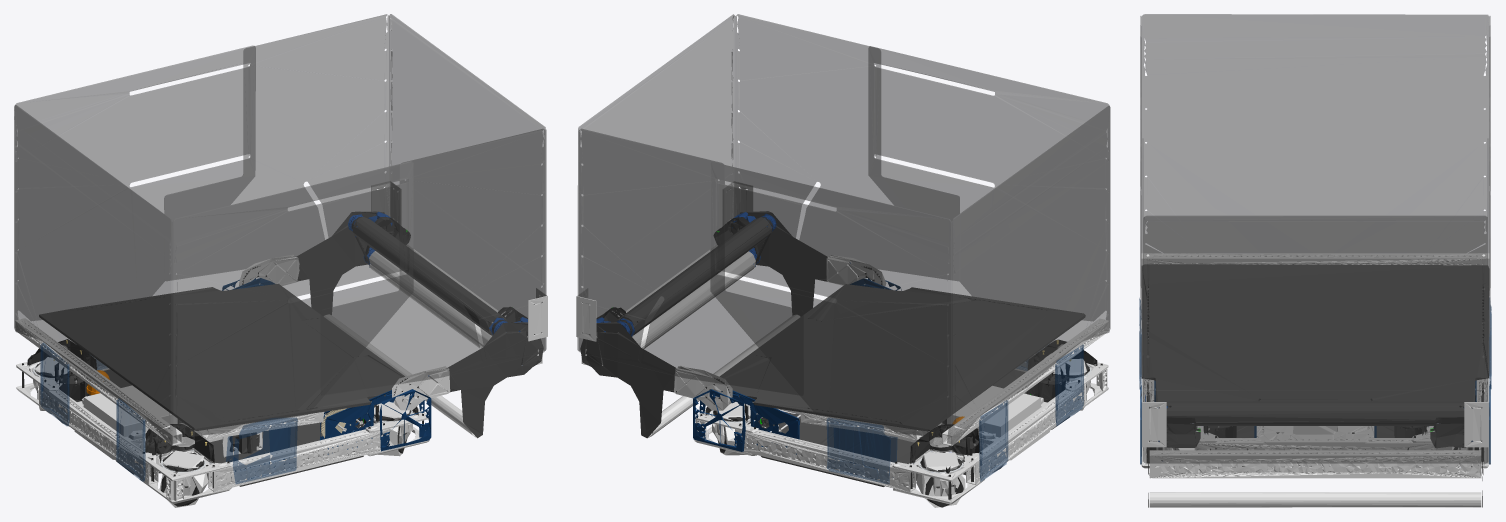
File: robot_shuttler.glb
3 views of the same model, side by side, from view 1: azimuth 30°, elevation 25°; view 2: azimuth 150°, elevation 25°; view 3: azimuth 270°, elevation 25° (orthographic). The views are drawn at different scales.
Visible parts, largest first — view 1: clear_35, body_12, body_28, body_29, clear_34, body_8, body_2, body_33; view 2: clear_35, body_12, body_28, body_29, clear_34, body_8, body_2, body_33; view 3: clear_35, body_12, body_29, body_28, body_8, clear_34, body_2.
Boxes of the visible parts, bbox=[...] form: clear_35: bbox=[14, 14, 546, 445]; body_12: bbox=[39, 211, 543, 486]; body_28: bbox=[15, 181, 547, 503]; body_29: bbox=[201, 244, 542, 439]; clear_34: bbox=[40, 342, 297, 484]; body_8: bbox=[22, 217, 527, 506]; body_2: bbox=[222, 278, 431, 454]; body_33: bbox=[37, 384, 406, 507]; clear_35: bbox=[577, 14, 1110, 445]; body_12: bbox=[580, 211, 1085, 486]; body_28: bbox=[576, 181, 1109, 504]; body_29: bbox=[581, 245, 922, 439]; clear_34: bbox=[826, 344, 1083, 484]; body_8: bbox=[596, 217, 1102, 507]; body_2: bbox=[693, 278, 901, 454]; body_33: bbox=[720, 384, 1086, 507]; clear_35: bbox=[1140, 14, 1490, 463]; body_12: bbox=[1141, 264, 1489, 507]; body_29: bbox=[1143, 382, 1487, 507]; body_28: bbox=[1141, 253, 1489, 475]; body_8: bbox=[1146, 382, 1483, 463]; clear_34: bbox=[1139, 298, 1491, 389]; body_2: bbox=[1140, 380, 1490, 464].
Size of the model in its own units: 0.9836 by 0.7519 by 0.7207.
